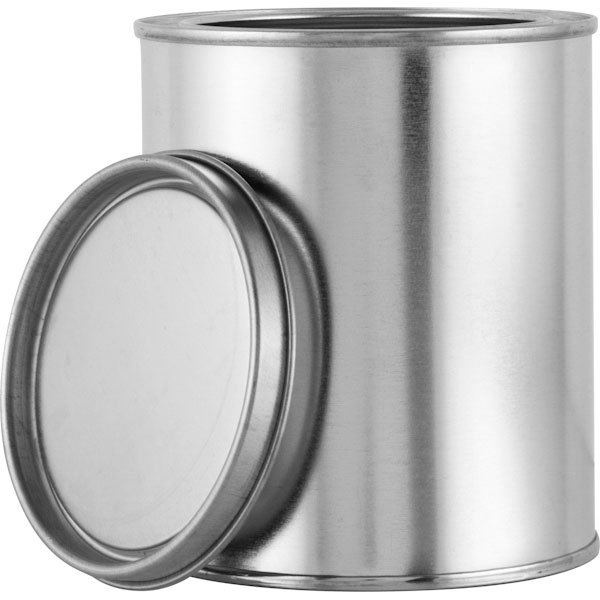metal: (131, 6, 599, 592), (3, 147, 290, 592)
